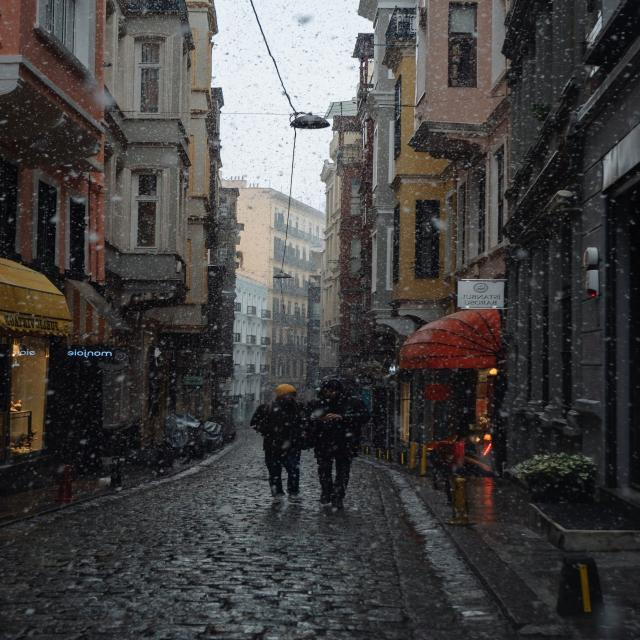adult: (251, 384, 308, 502), (312, 378, 364, 506)
